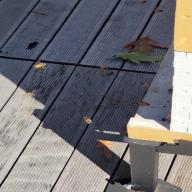Bee: (132, 98, 157, 112), (138, 74, 152, 89), (23, 90, 38, 96)
